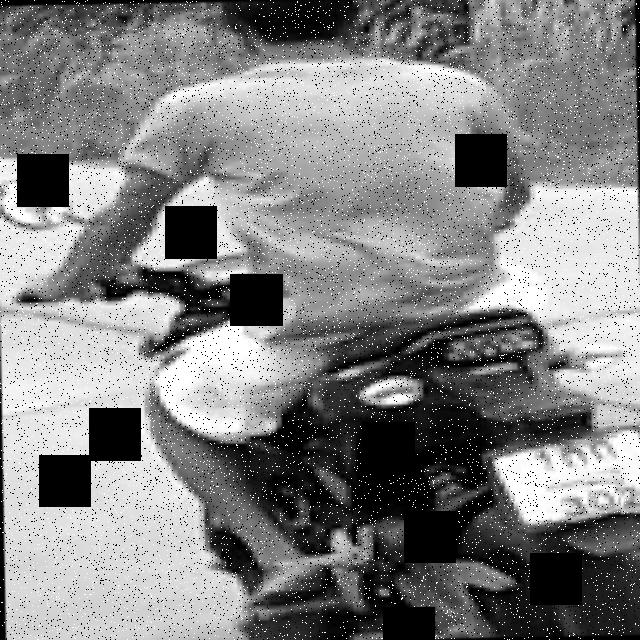letters: (552, 492, 590, 522), (556, 440, 586, 470), (592, 434, 618, 464), (591, 484, 615, 510), (529, 443, 551, 468), (620, 488, 640, 514)
license-plate: (492, 424, 640, 528)
province: (537, 467, 631, 488)
